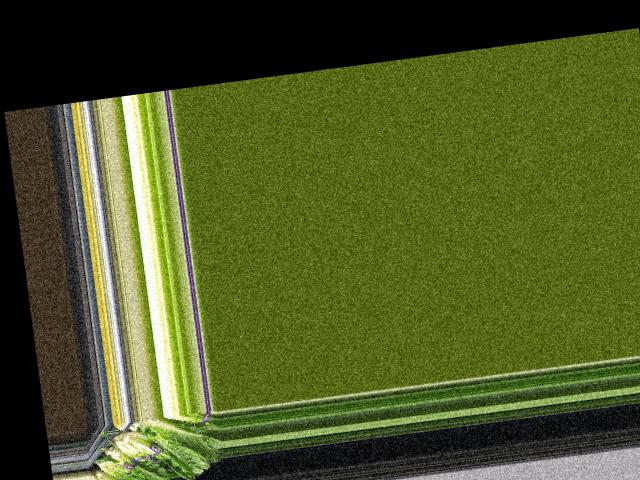lettuce: (140, 414, 223, 477)
